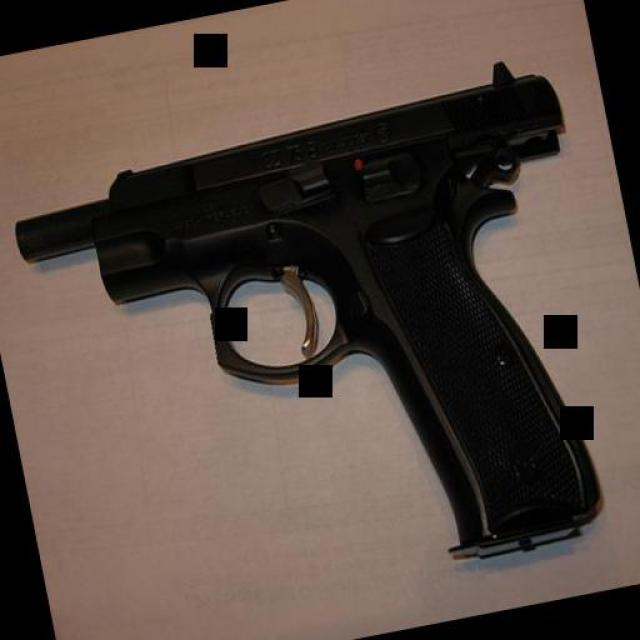gun: (0, 50, 636, 640)
